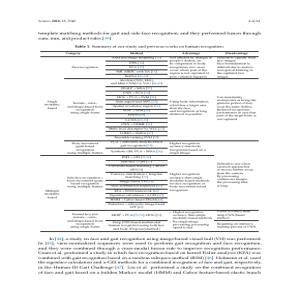table: (34, 51, 265, 234)
text: (34, 234, 265, 277), (33, 28, 265, 50)
